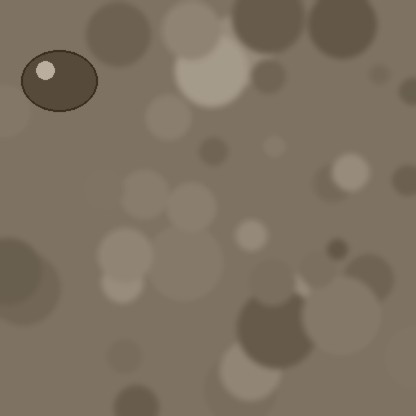gota: (21, 52, 97, 116)
